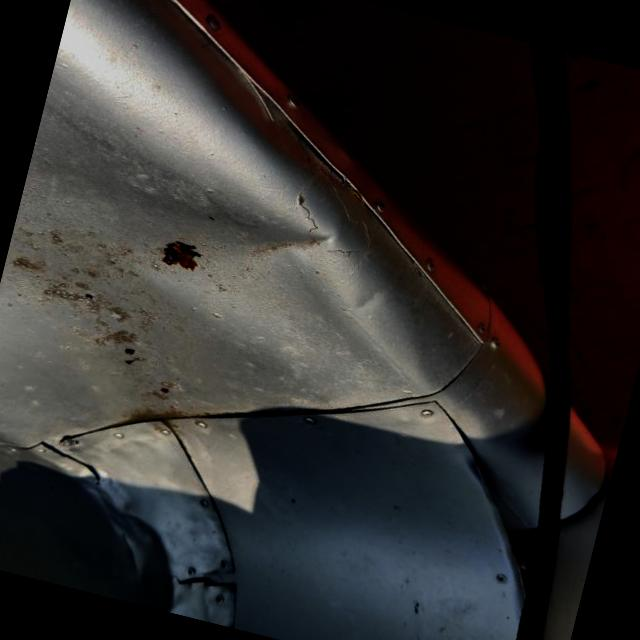crack: (20, 422, 126, 502), (159, 544, 248, 610)
dent: (53, 110, 371, 356), (34, 470, 208, 616)
